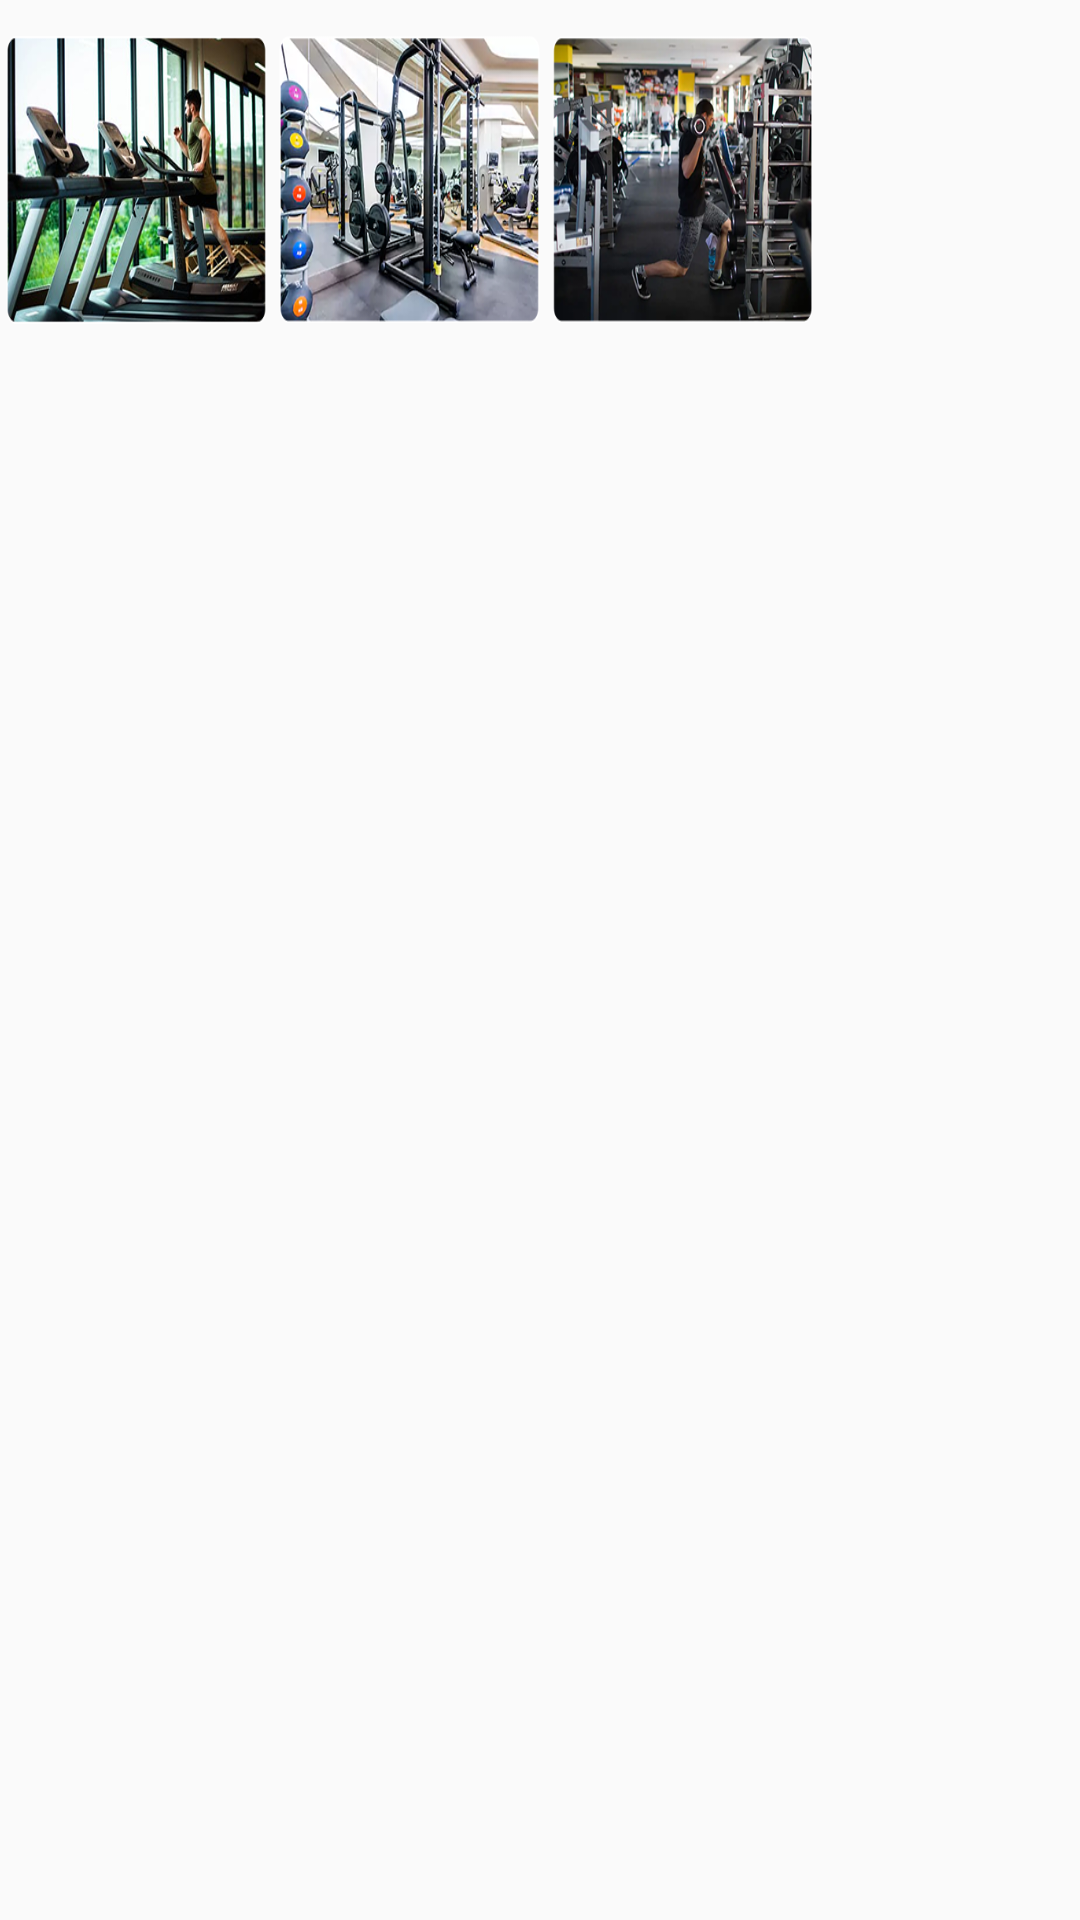

Screen size 1080*1920. Icon name, then its box in pixels as (x1=x1, y1=y1, x2=x2, y2=y2):
gym one: (x1=7, y1=38, x2=266, y2=322)
gym three: (x1=553, y1=38, x2=812, y2=322)
gym two: (x1=280, y1=38, x2=539, y2=322)
